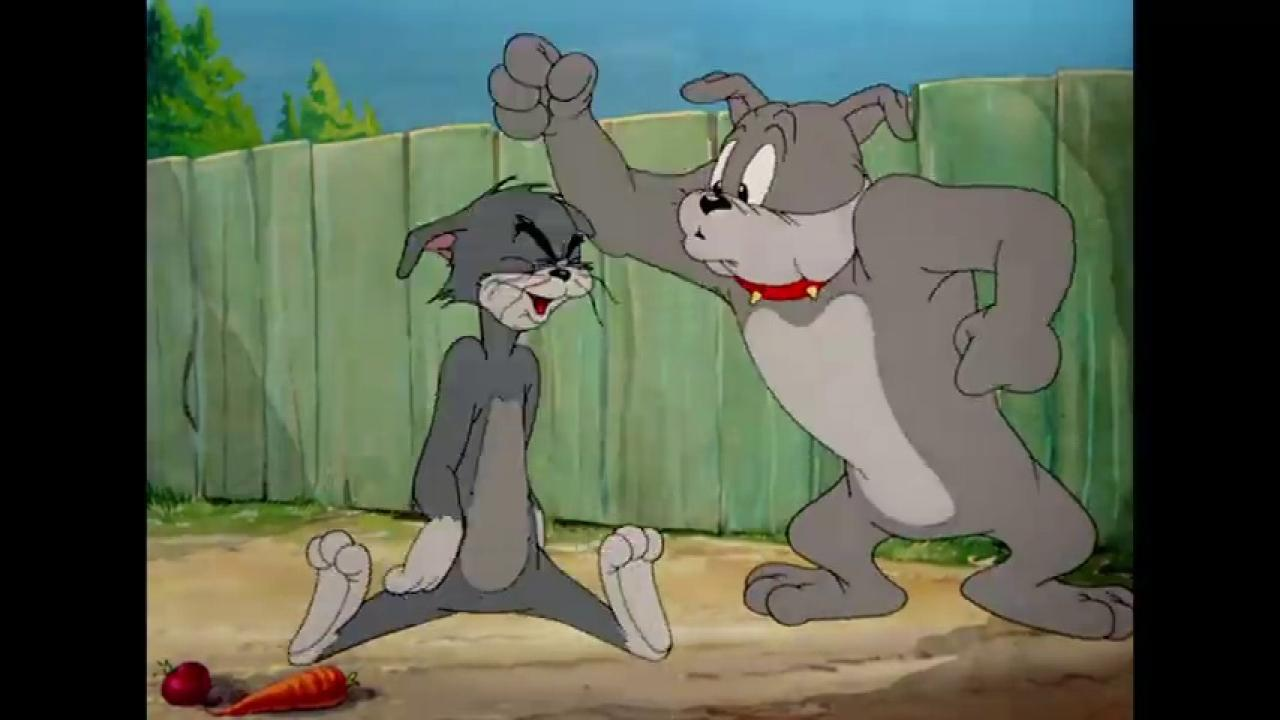Tom: (285, 176, 675, 666)
